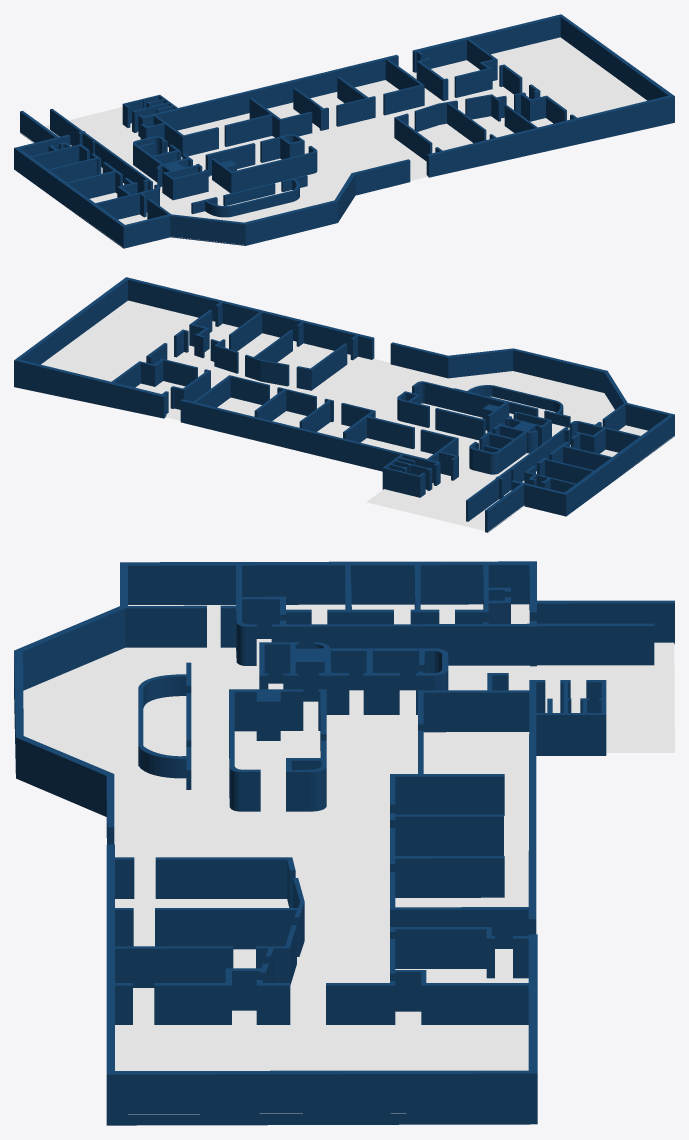
Rendered from Plan.obj.
3 renders of one model, top to bottom at view 1: azimuth 30°, elevation 25°; view 2: azimuth 150°, elevation 25°; view 3: azimuth 270°, elevation 25°, orthographic. The views are drawn at different scales.
Parts seen in each view (by area): view 1: Murs_CUColor_Fill_1.001, Sol_CUColor_Fill_2, Comptoir_CUColor_Fill_1.000; view 2: Murs_CUColor_Fill_1.001, Sol_CUColor_Fill_2, Comptoir_CUColor_Fill_1.000; view 3: Murs_CUColor_Fill_1.001, Sol_CUColor_Fill_2, Comptoir_CUColor_Fill_1.000.
Part boxes in pixels (x1,y1,x2,y2): Murs_CUColor_Fill_1.001: (14, 14, 674, 248); Sol_CUColor_Fill_2: (20, 37, 646, 246); Comptoir_CUColor_Fill_1.000: (191, 175, 307, 217); Murs_CUColor_Fill_1.001: (14, 277, 674, 532); Sol_CUColor_Fill_2: (41, 300, 673, 531); Comptoir_CUColor_Fill_1.000: (454, 385, 570, 427); Murs_CUColor_Fill_1.001: (14, 561, 674, 1125); Sol_CUColor_Fill_2: (23, 604, 674, 1114); Comptoir_CUColor_Fill_1.000: (138, 662, 191, 789).
Bounding box in the file's own units: 65.03 × 3 × 35.37.
